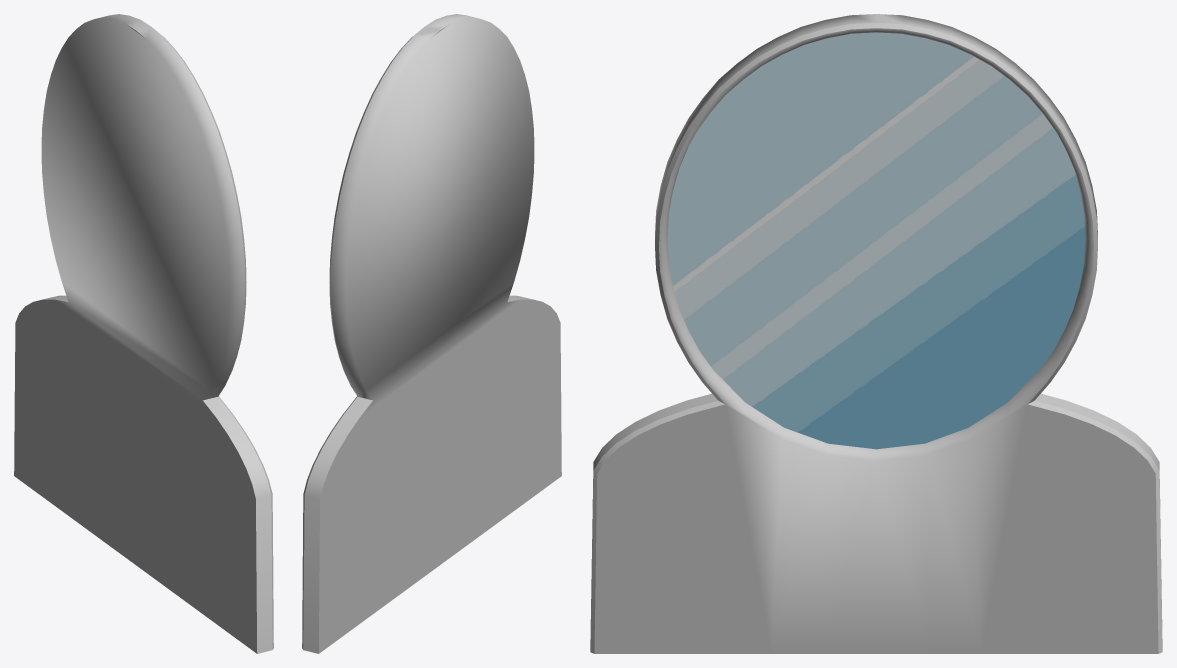
The model's file is BathRoom_Mirror_01_Collider.fbx.
3 views of the same model, side by side, from view 1: azimuth 30°, elevation 25°; view 2: azimuth 150°, elevation 25°; view 3: azimuth 270°, elevation 25° (orthographic). The views are drawn at different scales.
Parts seen in each view (by area): view 1: BathRoom_Mirror_01_Collider; view 2: BathRoom_Mirror_01_Collider; view 3: BathRoom_Mirror_01_Collider.
Part boxes in pixels (x1,y1,x2,y2): BathRoom_Mirror_01_Collider: (14,14,273,653); BathRoom_Mirror_01_Collider: (302,14,561,653); BathRoom_Mirror_01_Collider: (590,14,1162,653).
Bounding box in the file's own units: 6.71 × 186 × 153.
